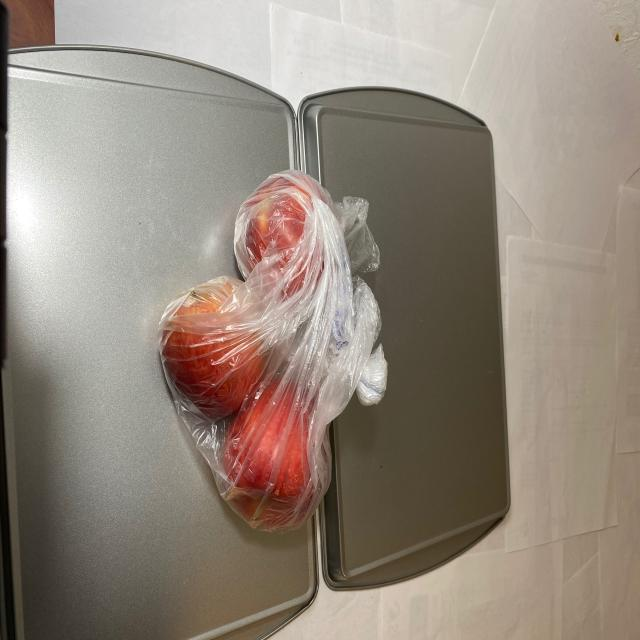apple: (162, 172, 344, 537)
